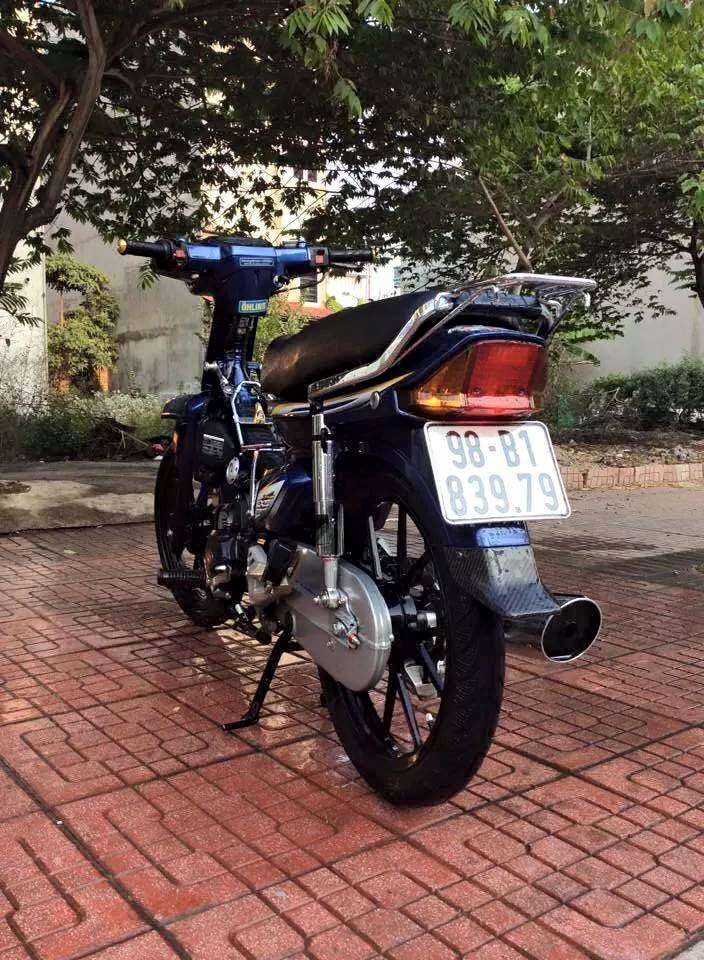bien_so: (417, 408, 578, 531)
